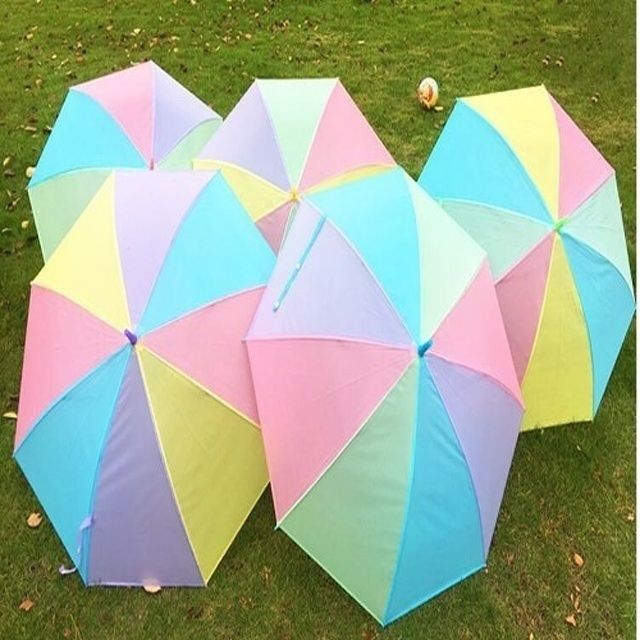umbrella: (243, 161, 529, 627), (11, 166, 284, 592), (410, 83, 640, 433), (26, 58, 224, 266), (189, 74, 398, 257)
